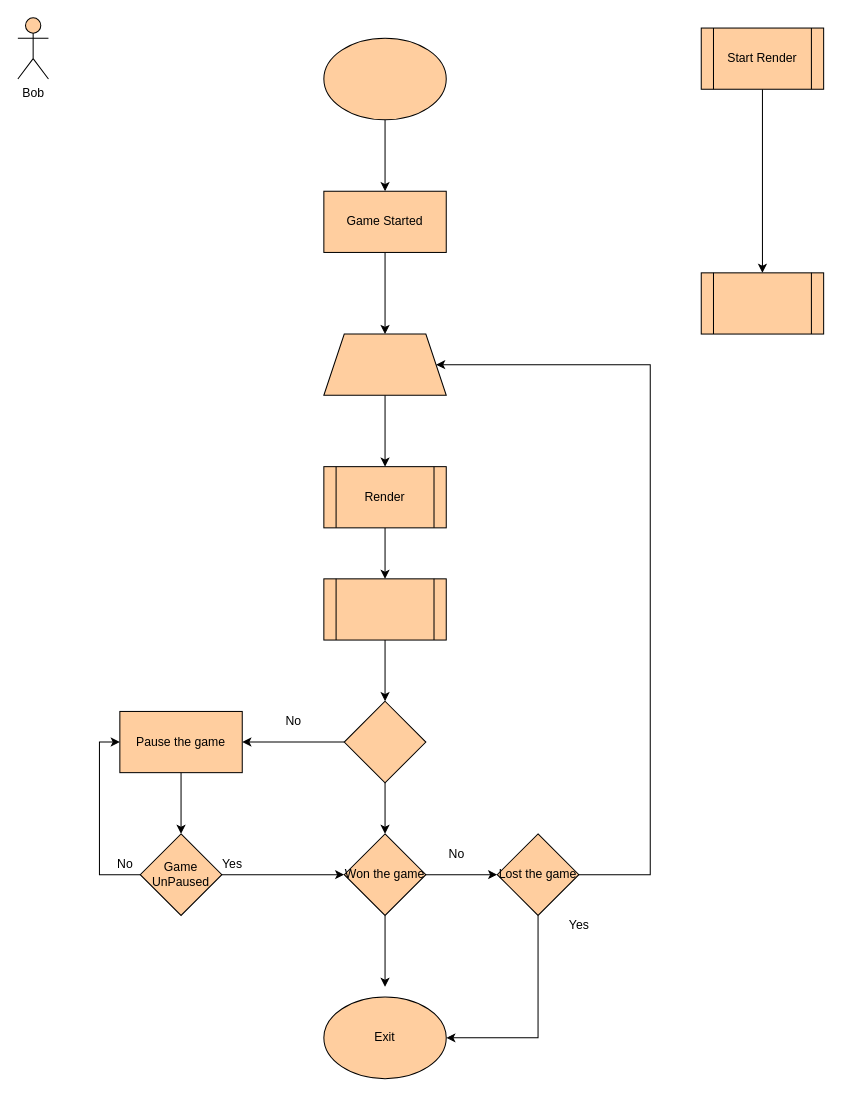
This 842x1097 diagram has some shape labels left out. Here are the shapes that lost their labels. From the top down, the box of each, then its label:
(323, 37, 446, 120): Start
(700, 272, 824, 334): End Render
(323, 333, 446, 395): Game Loop
(323, 578, 446, 640): Update
(343, 700, 426, 783): Game Not Paused
